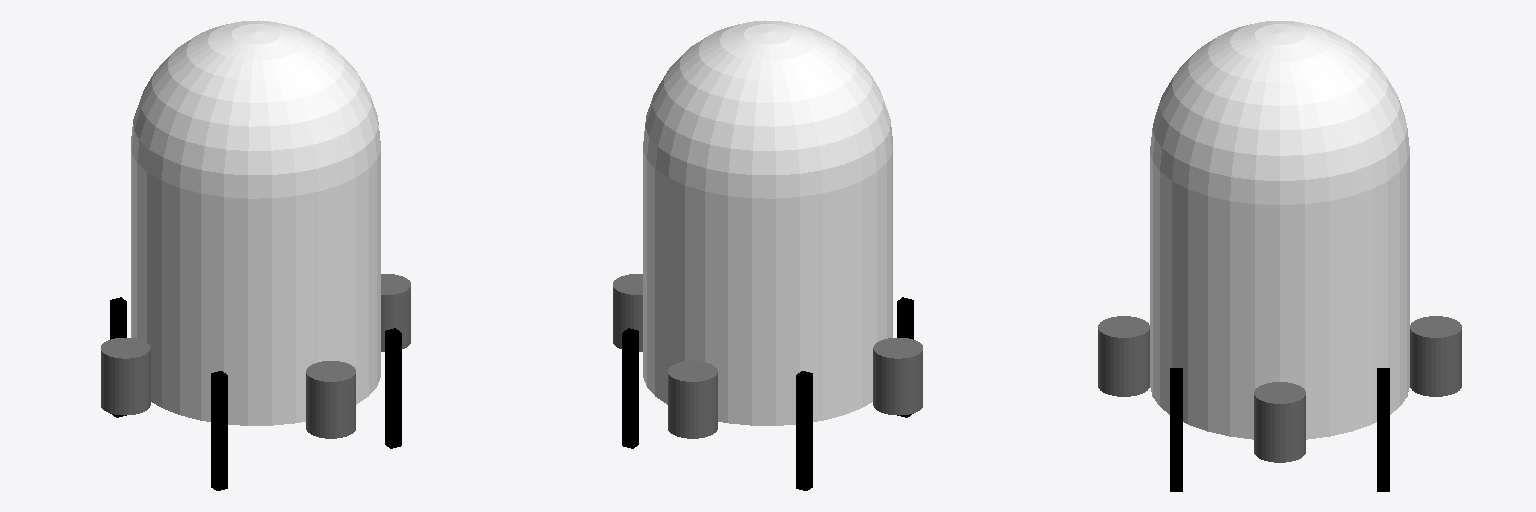
URDF robot description (cargo_lander):
<?xml version="1.0"?>
<robot name="cargo_lander">
  <!-- Lander body -->
  <link name="base_link">
    <visual>
      <geometry>
        <cylinder radius="1.0" length="2.0"/>
      </geometry>
      <material name="white">
        <color rgba="1 1 1 1"/>
      </material>
    </visual>
    <collision>
      <geometry>
        <cylinder radius="1.0" length="2.0"/>
      </geometry>
    </collision>
    <inertial>
      <mass value="200"/>
      <origin xyz="0 0 0"/>
      <inertia ixx="2" iyy="2" izz="2" ixy="0" ixz="0" iyz="0"/>
    </inertial>
  </link>

<!-- Half-sphere on top -->
  <link name="half_sphere">
    <visual>
      <geometry>
        <sphere radius="1.0"/>
      </geometry>
      <material name="white">
        <color rgba="1 1 1 1"/>
      </material>
    </visual>
    <collision>
      <geometry>
        <sphere radius="1.0"/>
      </geometry>
    </collision>
    <inertial>
      <mass value="50"/>
      <origin xyz="0 0 0"/>
      <inertia ixx="0.5" iyy="0.5" izz="0.5" ixy="0" ixz="0" iyz="0"/>
    </inertial>
  </link>

  <joint name="half_sphere_joint" type="fixed">
    <parent link="base_link"/>
    <child link="half_sphere"/>
    <origin xyz="0 0 1" rpy="0 0 0"/>
  </joint>

  <!-- Engines at 4 corners of the bottom -->
  <!-- Engine 1 -->
  <link name="engine_1">
    <visual>
      <geometry>
        <cylinder radius="0.2" length="0.5"/>
      </geometry>
      <material name="grey">
        <color rgba="0.5 0.5 0.5 1"/>
      </material>
    </visual>
    <collision>
      <geometry>
        <cylinder radius="0.2" length="0.5"/>
      </geometry>
    </collision>
    <inertial>
      <mass value="20"/>
      <origin xyz="0 0 0"/>
      <inertia ixx="0.1" iyy="0.1" izz="0.1" ixy="0" ixz="0" iyz="0"/>
    </inertial>
  </link>

  <joint name="engine_1_joint" type="fixed">
    <parent link="base_link"/>
    <child link="engine_1"/>
    <origin xyz="1.2 0 -0.75" rpy="0 0 0"/>
  </joint>

  <!-- Engine 2 -->
  <link name="engine_2">
    <visual>
      <geometry>
        <cylinder radius="0.2" length="0.5"/>
      </geometry>
      <material name="grey">
        <color rgba="0.5 0.5 0.5 1"/>
      </material>
    </visual>
    <collision>
      <geometry>
        <cylinder radius="0.2" length="0.5"/>
      </geometry>
    </collision>
    <inertial>
      <mass value="20"/>
      <origin xyz="0 0 0"/>
      <inertia ixx="0.1" iyy="0.1" izz="0.1" ixy="0" ixz="0" iyz="0"/>
    </inertial>
  </link>

  <joint name="engine_2_joint" type="fixed">
    <parent link="base_link"/>
    <child link="engine_2"/>
    <origin xyz="-1.2 0 -0.75" rpy="0 0 0"/>
  </joint>

  <!-- Engine 3 -->
  <link name="engine_3">
    <visual>
      <geometry>
        <cylinder radius="0.2" length="0.5"/>
      </geometry>
      <material name="grey">
        <color rgba="0.5 0.5 0.5 1"/>
      </material>
    </visual>
    <collision>
      <geometry>
        <cylinder radius="0.2" length="0.5"/>
      </geometry>
    </collision>
    <inertial>
      <mass value="20"/>
      <origin xyz="0 0 0"/>
      <inertia ixx="0.1" iyy="0.1" izz="0.1" ixy="0" ixz="0" iyz="0"/>
    </inertial>
  </link>

  <joint name="engine_3_joint" type="fixed">
    <parent link="base_link"/>
    <child link="engine_3"/>
    <origin xyz="0 1.2 -0.75" rpy="0 0 0"/>
  </joint>

  <!-- Engine 4 -->
  <link name="engine_4">
    <visual>
      <geometry>
        <cylinder radius="0.2" length="0.5"/>
      </geometry>
      <material name="grey">
        <color rgba="0.5 0.5 0.5 1"/>
      </material>
    </visual>
    <collision>
      <geometry>
        <cylinder radius="0.2" length="0.5"/>
      </geometry>
    </collision>
    <inertial>
      <mass value="20"/>
      <origin xyz="0 0 0"/>
      <inertia ixx="0.1" iyy="0.1" izz="0.1" ixy="0" ixz="0" iyz="0"/>
    </inertial>
  </link>

  <joint name="engine_4_joint" type="fixed">
    <parent link="base_link"/>
    <child link="engine_4"/>
    <origin xyz="0 -1.2 -0.75" rpy="0 0 0"/>
  </joint>

  <!-- Legs -->
  <!-- Leg 1 -->
  <link name="leg_1">
    <visual>
      <geometry>
        <box size="0.1 0.1 1.0"/>
      </geometry>
      <material name="black">
        <color rgba="0 0 0 1"/>
      </material>
    </visual>
    <collision>
      <geometry>
        <box size="0.1 0.1 1.0"/>
      </geometry>
    </collision>
    <inertial>
      <mass value="5"/>
      <origin xyz="0 0 0"/>
      <inertia ixx="0.01" iyy="0.01" izz="0.01" ixy="0" ixz="0" iyz="0"/>
    </inertial>
  </link>

  <joint name="leg_1_joint" type="fixed">
    <parent link="base_link"/>
    <child link="leg_1"/>
    <origin xyz="0.8 0.8 -1.0" rpy="0 0 0"/>
  </joint>

  <!-- Leg 2 -->
  <link name="leg_2">
    <visual>
      <geometry>
        <box size="0.1 0.1 1.0"/>
      </geometry>
      <material name="black">
        <color rgba="0 0 0 1"/>
      </material>
    </visual>
    <collision>
      <geometry>
        <box size="0.1 0.1 1.0"/>
      </geometry>
    </collision>
    <inertial>
      <mass value="5"/>
      <origin xyz="0 0 0"/>
      <inertia ixx="0.01" iyy="0.01" izz="0.01" ixy="0" ixz="0" iyz="0"/>
    </inertial>
  </link>

  <joint name="leg_2_joint" type="fixed">
    <parent link="base_link"/>
    <child link="leg_2"/>
    <origin xyz="-0.8 0.8 -1.0" rpy="0 0 0"/>
  </joint>

  <!-- Leg 3 -->
  <link name="leg_3">
    <visual>
      <geometry>
        <box size="0.1 0.1 1.0"/>
      </geometry>
      <material name="black">
        <color rgba="0 0 0 1"/>
      </material>
    </visual>
    <collision>
      <geometry>
        <box size="0.1 0.1 1.0"/>
      </geometry>
    </collision>
    <inertial>
      <mass value="5"/>
      <origin xyz="0 0 0"/>
      <inertia ixx="0.01" iyy="0.01" izz="0.01" ixy="0" ixz="0" iyz="0"/>
    </inertial>
  </link>

  <joint name="leg_3_joint" type="fixed">
    <parent link="base_link"/>
    <child link="leg_3"/>
    <origin xyz="-0.8 -0.8 -1.0" rpy="0 0 0"/>
  </joint>

  <!-- Leg 4 -->
  <link name="leg_4">
    <visual>
      <geometry>
        <box size="0.1 0.1 1.0"/>
      </geometry>
      <material name="black">
        <color rgba="0 0 0 1"/>
      </material>
    </visual>
    <collision>
      <geometry>
        <box size="0.1 0.1 1.0"/>
      </geometry>
    </collision>
    <inertial>
      <mass value="5"/>
      <origin xyz="0 0 0"/>
      <inertia ixx="0.01" iyy="0.01" izz="0.01" ixy="0" ixz="0" iyz="0"/>
    </inertial>
  </link>

  <joint name="leg_4_joint" type="fixed">
    <parent link="base_link"/>
    <child link="leg_4"/>
    <origin xyz="0.8 -0.8 -1.0" rpy="0 0 0"/>
  </joint>

</robot>


--- What the picture shows (computed from the rendered views, not written in the file) ---
The picture shows the robot from 3 angles, left to right: view 1: azimuth 30°, elevation 25°; view 2: azimuth 150°, elevation 25°; view 3: azimuth 270°, elevation 25°; orthographic projection.
Robot: cargo_lander — 10 links, 9 joints (9 fixed); root link base_link; default pose: every joint at zero.
Visible links, largest first — view 1: base_link, half_sphere, engine_4, engine_2, leg_3, leg_4, engine_1, leg_2; view 2: base_link, half_sphere, engine_3, engine_2, leg_1, leg_2, engine_1, leg_3; view 3: base_link, half_sphere, engine_3, engine_4, engine_1, leg_1, leg_4.
Boxes of the visible links, x1,y1,x2,y2 form: base_link: [131, 151, 380, 425]; half_sphere: [131, 20, 380, 198]; engine_4: [306, 361, 355, 438]; engine_2: [101, 338, 150, 415]; leg_3: [211, 371, 227, 490]; leg_4: [385, 328, 401, 448]; engine_1: [381, 274, 410, 351]; leg_2: [110, 297, 126, 417]; base_link: [643, 151, 892, 425]; half_sphere: [643, 20, 892, 198]; engine_3: [668, 361, 717, 438]; engine_2: [873, 338, 922, 415]; leg_1: [622, 328, 638, 448]; leg_2: [796, 371, 812, 490]; engine_1: [613, 274, 642, 351]; leg_3: [897, 297, 913, 417]; base_link: [1150, 152, 1409, 439]; half_sphere: [1150, 21, 1409, 204]; engine_3: [1410, 316, 1461, 396]; engine_4: [1098, 316, 1149, 396]; engine_1: [1254, 382, 1305, 462]; leg_1: [1377, 368, 1389, 491]; leg_4: [1170, 368, 1182, 491].
Size in the robot's own frame: 2.8 by 2.8 by 3.5 metres.
Geometry: primitives only (box / cylinder / sphere), no mesh files.